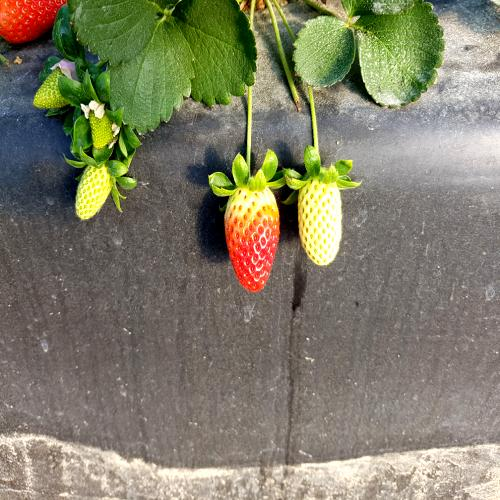partially-ripe: (223, 177, 285, 297)
unripe: (291, 166, 350, 282)
